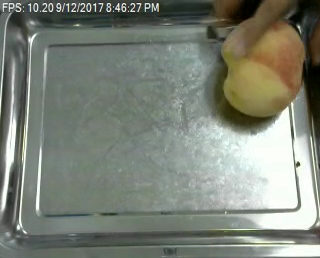Peach: (220, 14, 305, 117)
